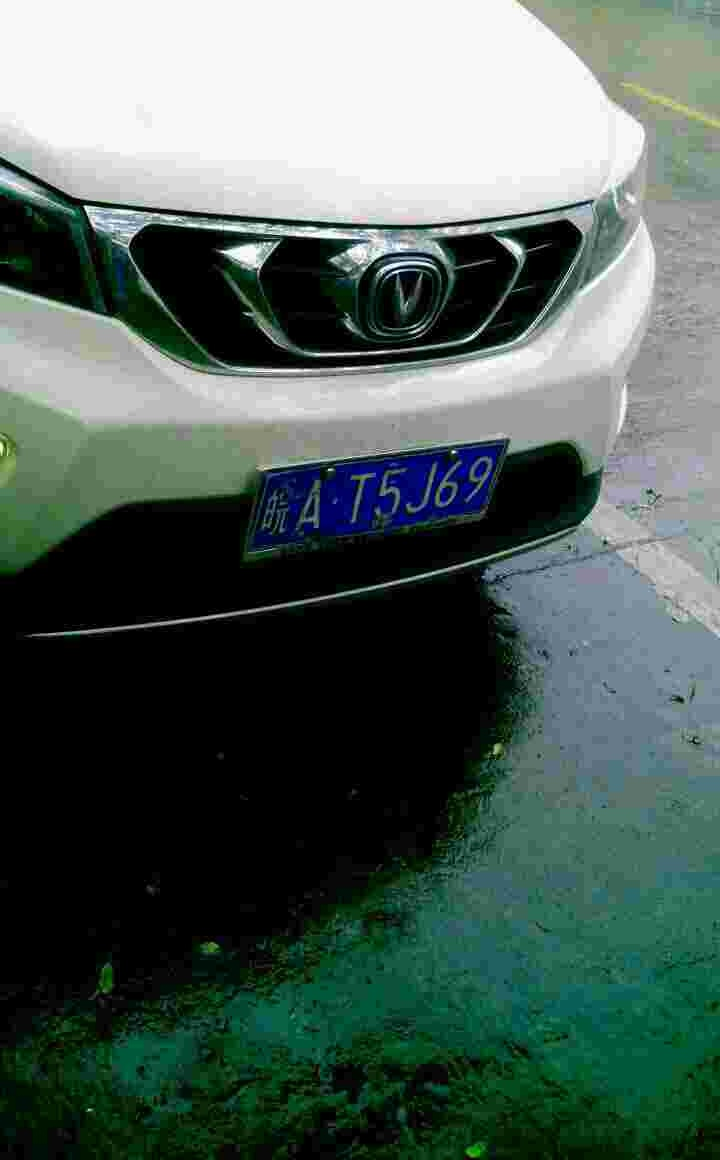car: (255, 463, 504, 533)
